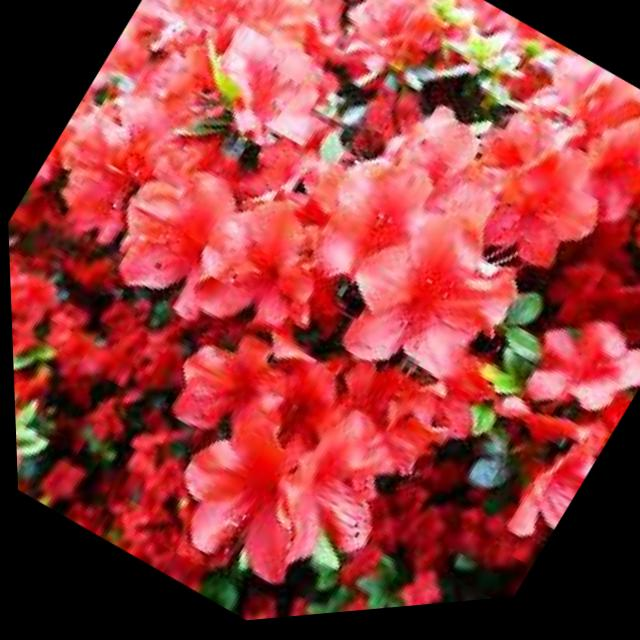Flower: (135, 349, 416, 631), (256, 285, 511, 530), (252, 101, 477, 343), (322, 173, 535, 405), (148, 162, 366, 378)
